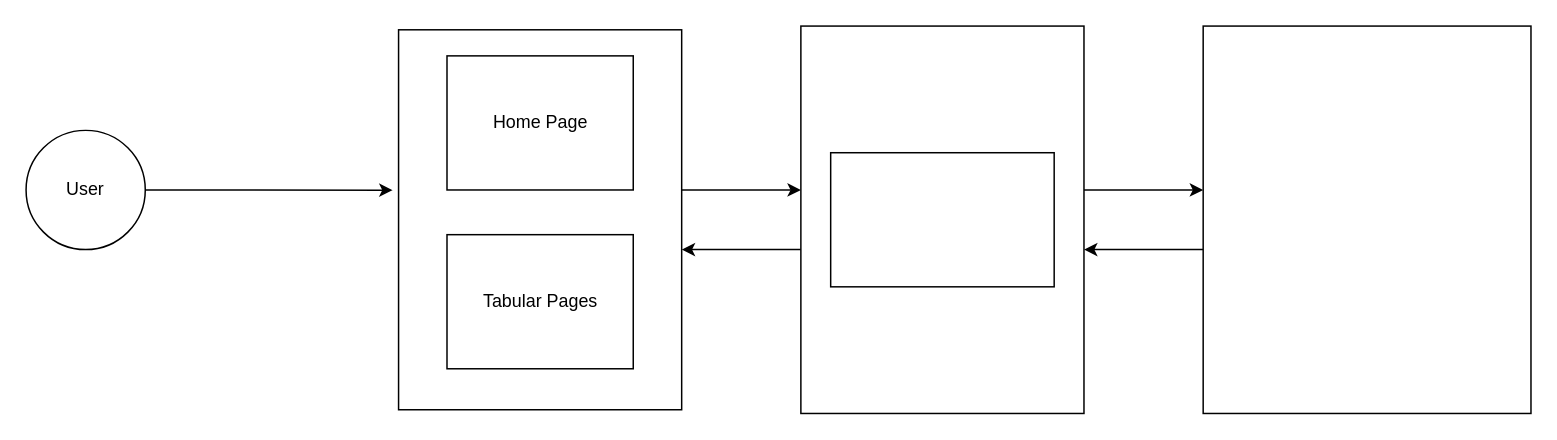
Some shapes in this 1557 by 440 pixel diagram are drawn without their labels. Each missing label, with the centre of its shape:
"Back-end/Web server" goes at (941,219).
"Social APIs and other APIs" goes at (1366,219).
